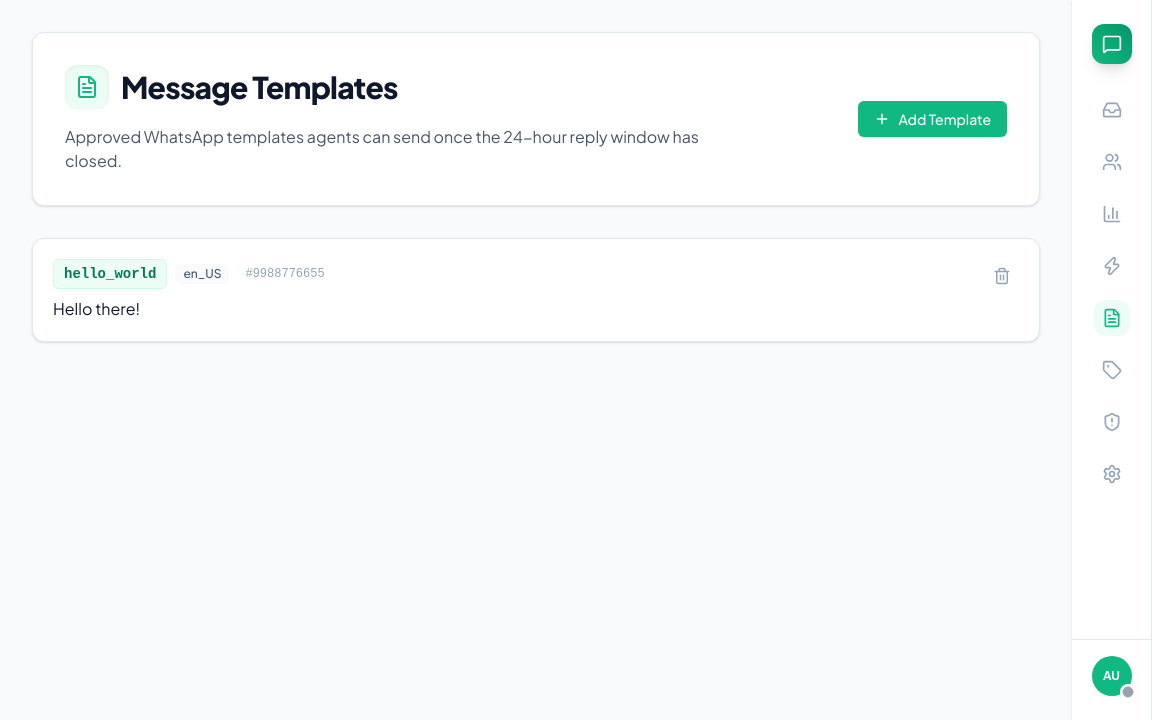
Test: Admin Meta Templates Page › deletes a template via confirmation
The image size is (1152, 720).
Expected: the text "hello_world" is shown, x1=53 y1=259 x2=167 y2=289
Click the button titled "Delete template".
click(1002, 276)  # box x1=985 y1=259 x2=1019 y2=293
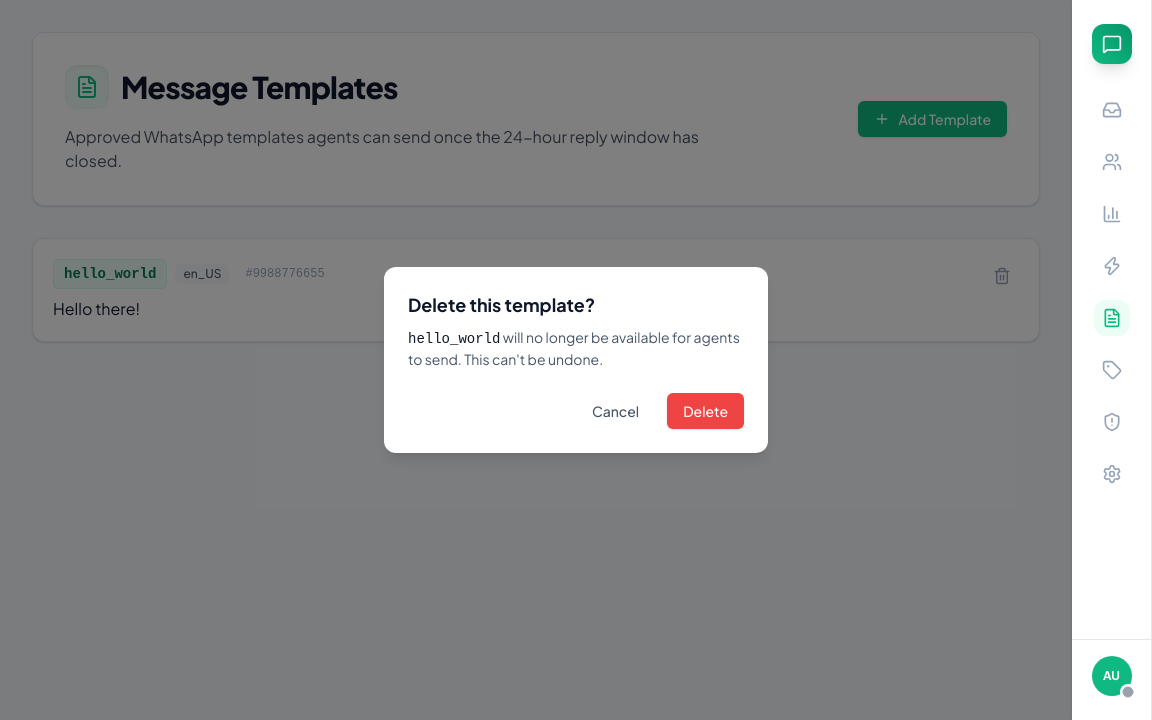
Click the button "Delete".
click(706, 411)  # box x1=667 y1=393 x2=744 y2=429
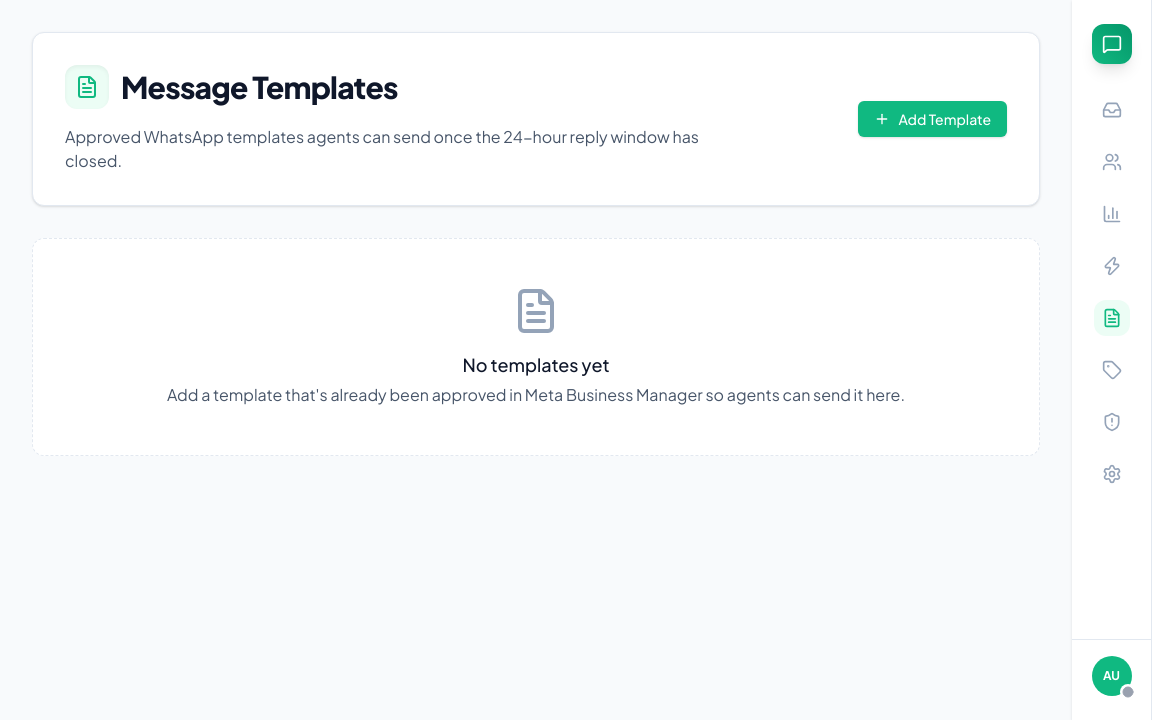
Now the text "hello_world" is gone
